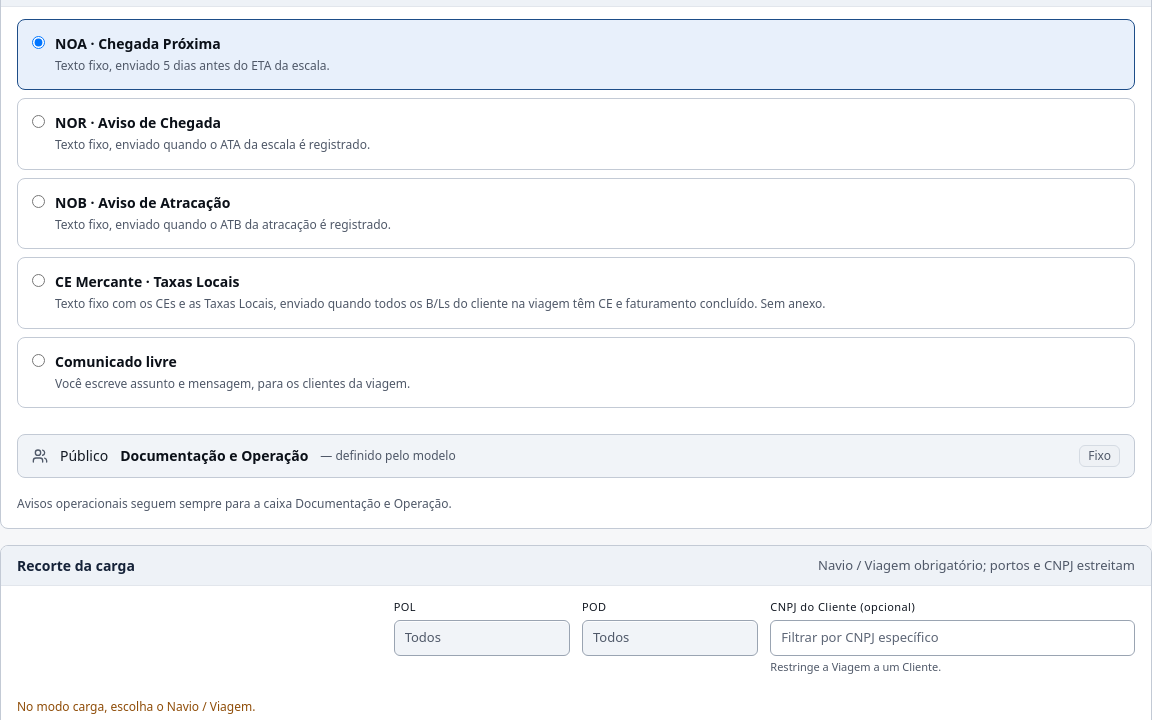
Test: Página ClientesComunicacao (UI e fluxos) › só o modelo Livre deixa o operador escolher o público
The image size is (1152, 720).
(page scrolled)
Click the radio button labelled "Comunicado livre": {"x": 38, "y": 360} [32,354,45,366]
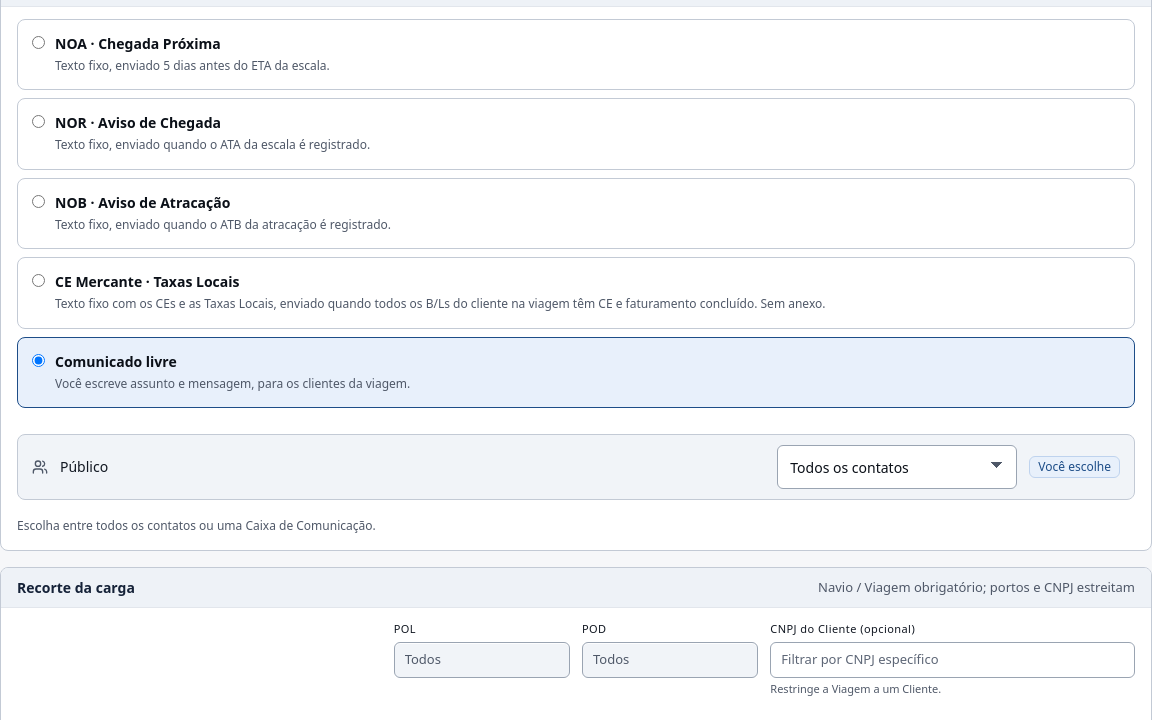
expect the dropdown named "Público" shows "Todos os contatos": met, box [777,445,1017,489]
